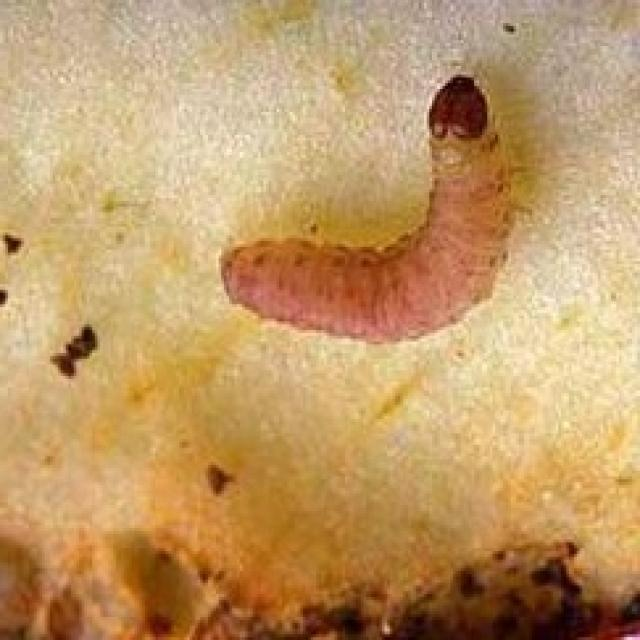peach borer: (209, 73, 525, 360)
